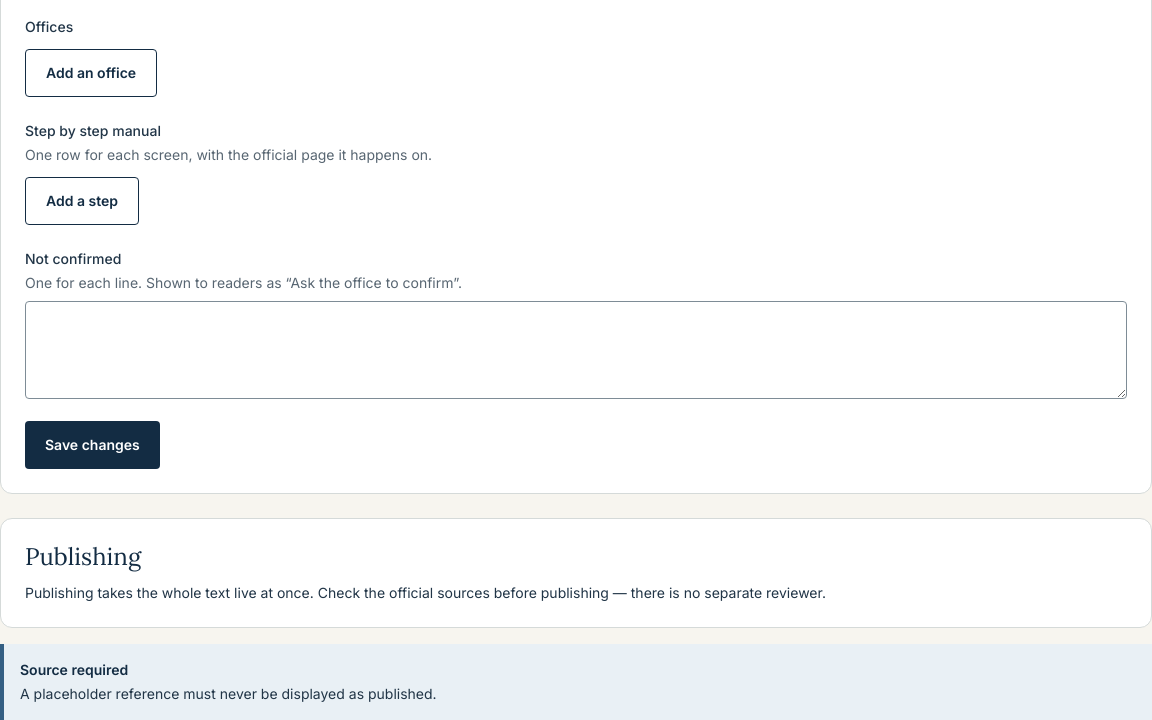
Edit a draft guide › needs no warning for a draft and saves straight away
The image size is (1152, 720).
(page scrolled)
Click the button "Save changes" at (92, 445), box [25,421,160,469]
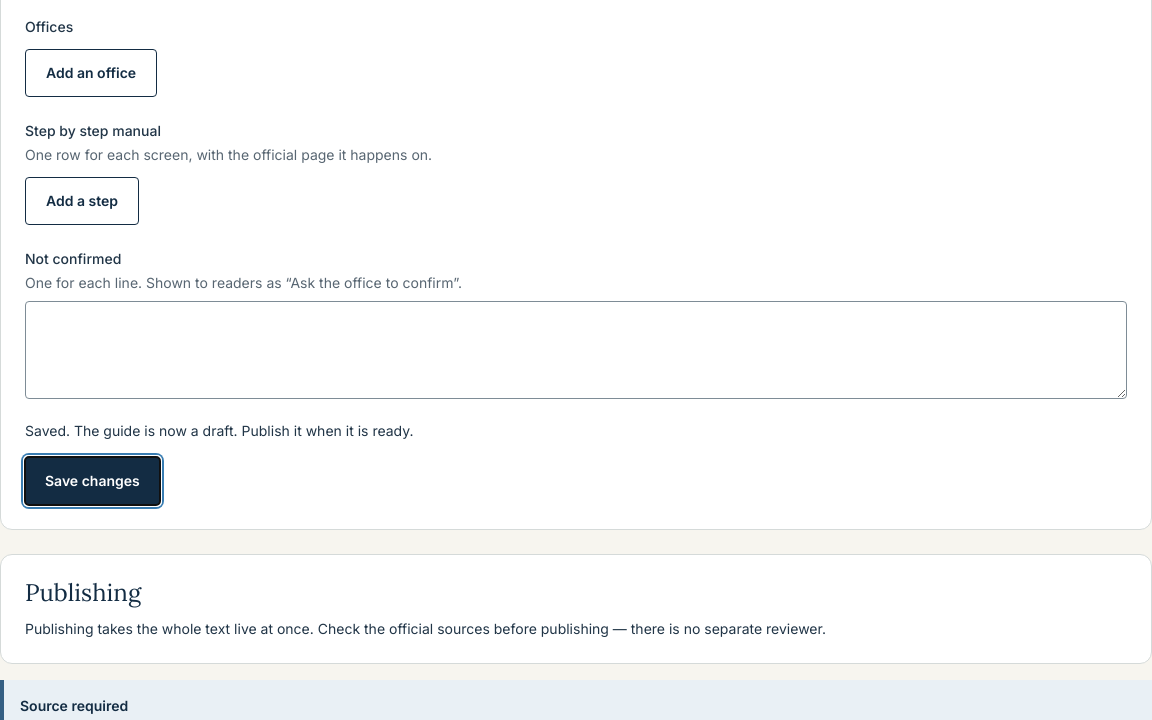
Now the text "The guide is now a draft" is shown, box [25,422,414,439]
